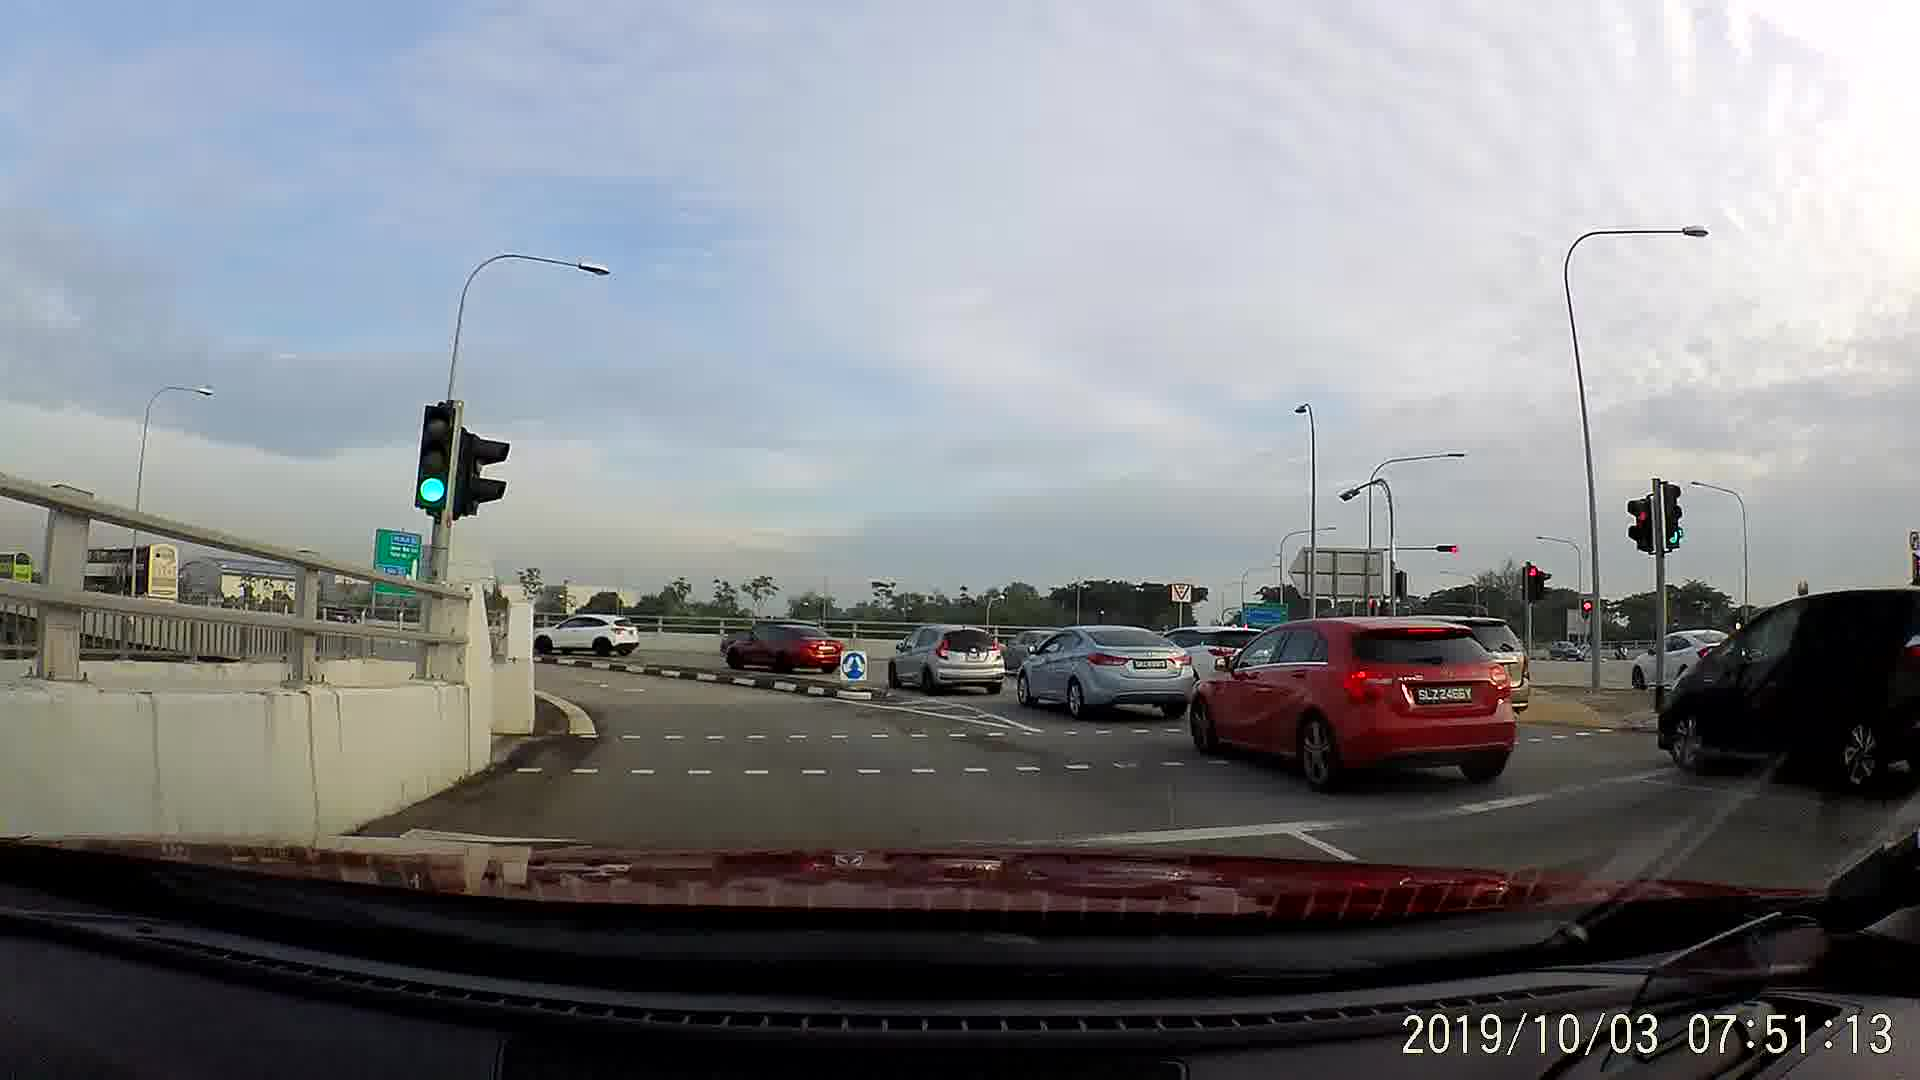car: (1195, 611, 1515, 793), (1655, 593, 1919, 790), (1018, 616, 1193, 727), (884, 624, 1010, 698), (713, 617, 855, 679), (541, 607, 644, 653)
